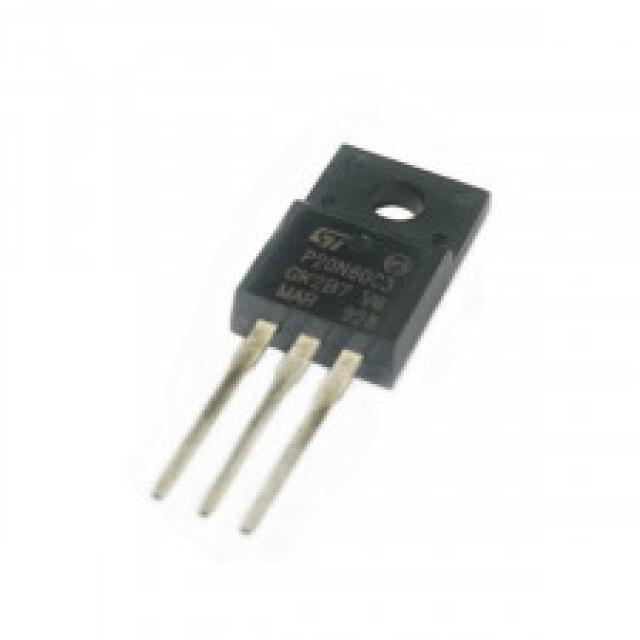Transistor: (154, 144, 487, 542)
